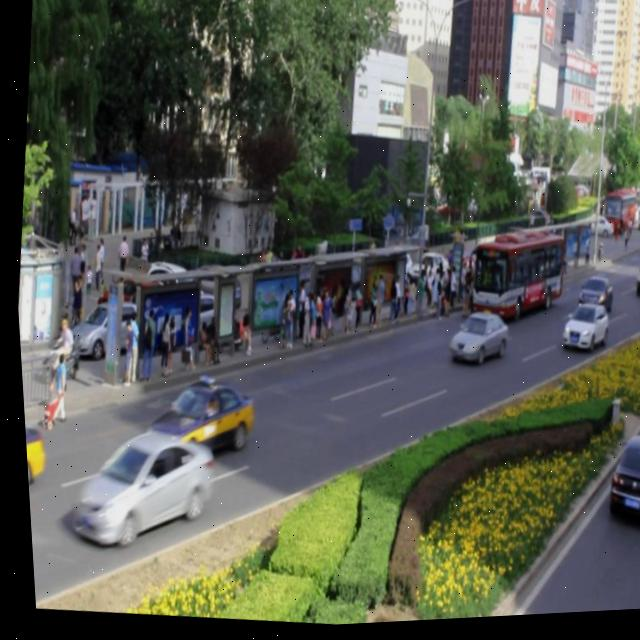car: (61, 421, 214, 551), (138, 373, 251, 463), (440, 310, 507, 371), (554, 302, 605, 357), (19, 414, 45, 489), (570, 277, 610, 320)
van: (457, 224, 562, 330)
